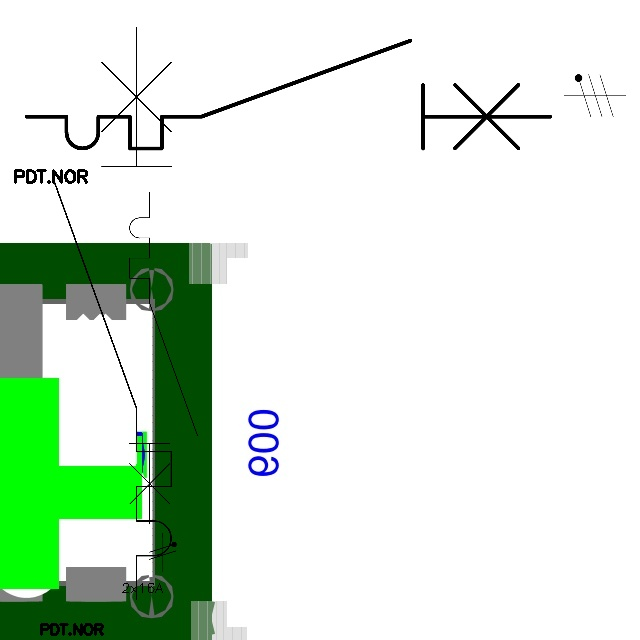interruptor_termomagnetico: (39, 13, 186, 614), (13, 27, 563, 162), (121, 184, 206, 533)
